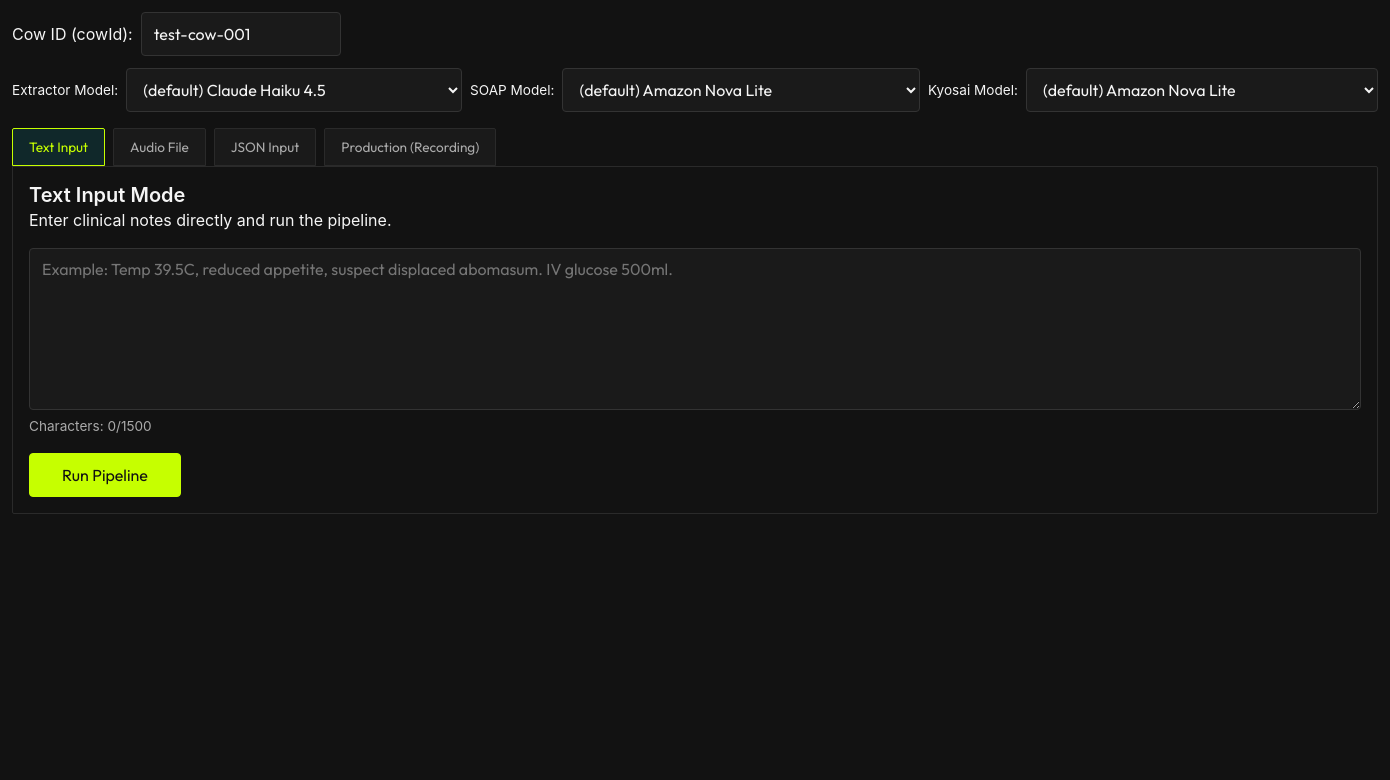
Scenario: PipelineEntryForm component › validation errors › displays validation error for empty text input
What coordinates should you click on to do the following:
click the button "Run Pipeline"
I would click on:
 (105, 475)
Its box is [29,453,181,497].
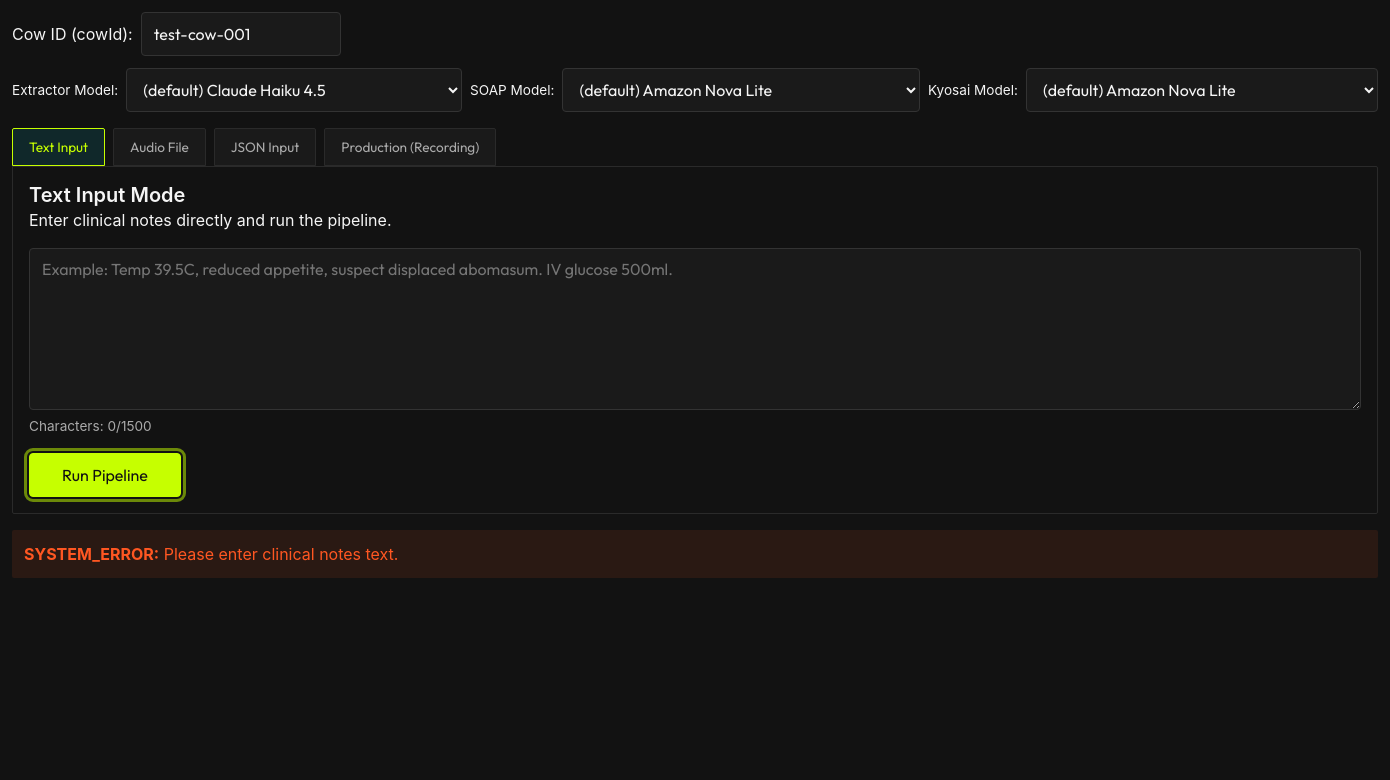
Expected: the message shows "Please enter clinical notes text.", [164,544,398,564]
